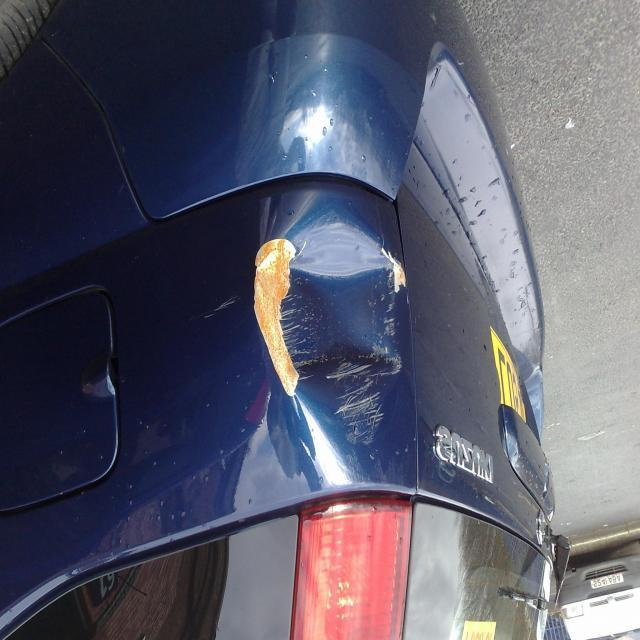dent: (267, 210, 407, 424)
